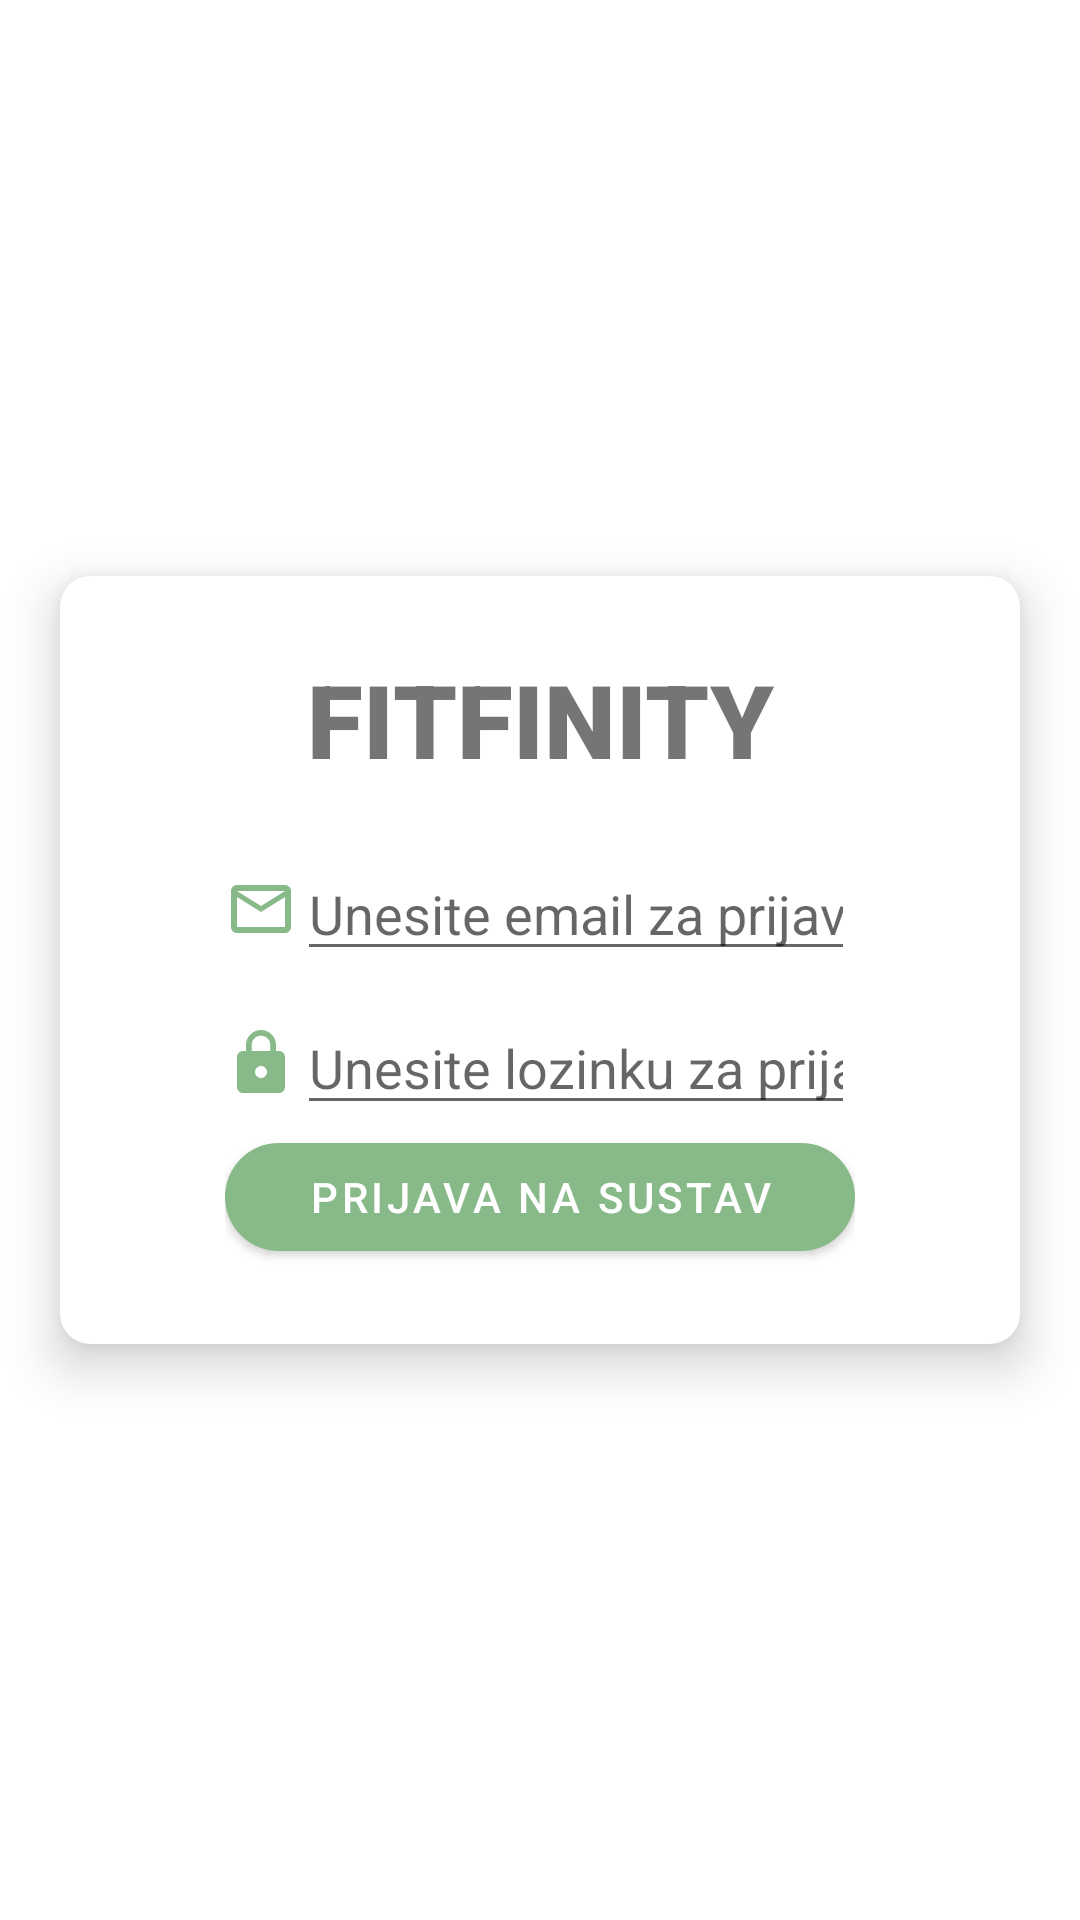

Icons on this 1080*1920 Android screen, each with the point to tap as point (x, y):
lock: point (261, 1061)
